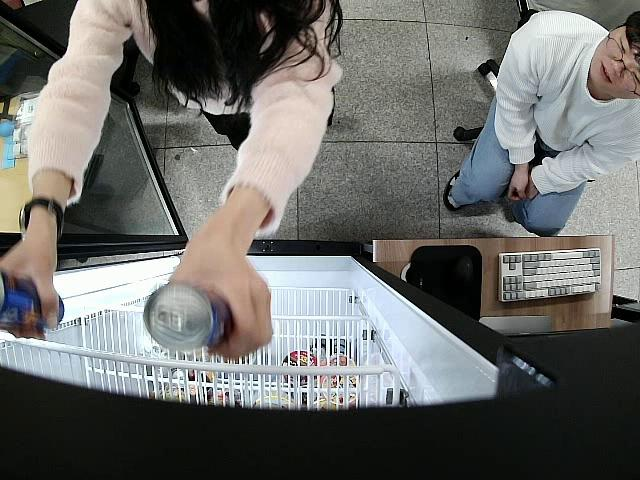00_hand: (170, 233, 275, 359), (0, 235, 59, 341)
16_hot6: (142, 283, 236, 352), (0, 272, 65, 333)
